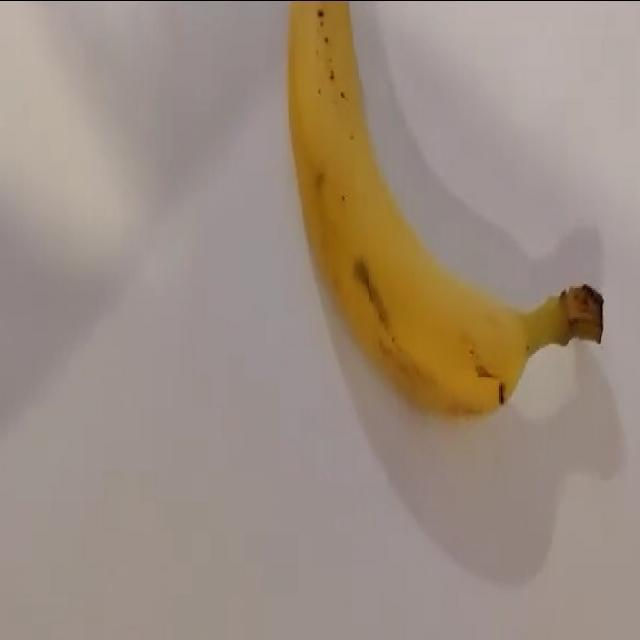Banana: (285, 0, 604, 421)
